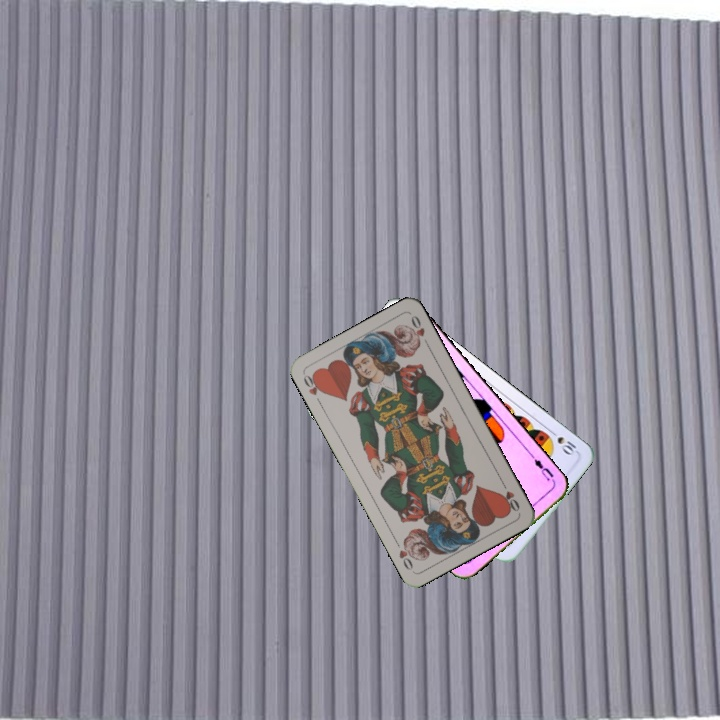EU: (527, 451, 558, 486)
HO: (299, 369, 326, 408), (497, 477, 522, 514)
S10: (545, 426, 580, 458)
